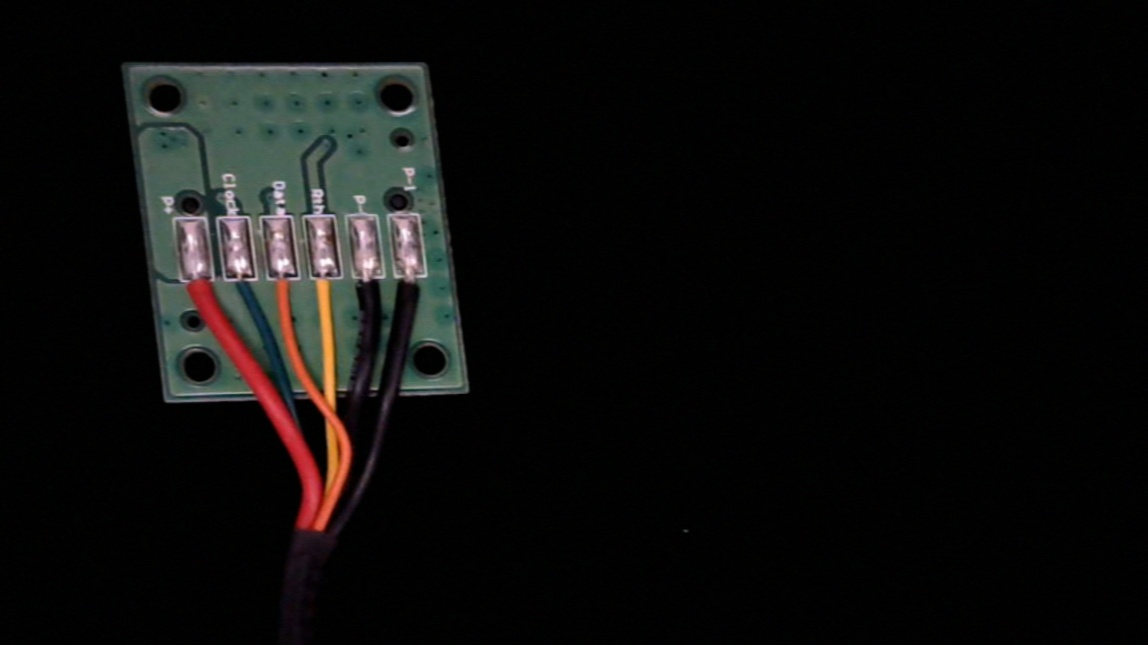Black: (348, 264, 391, 328)
Black1: (394, 262, 436, 329)
Green: (223, 265, 265, 326)
Orange: (264, 263, 306, 323)
Red: (178, 267, 223, 337)
Yellow: (307, 261, 346, 326)
